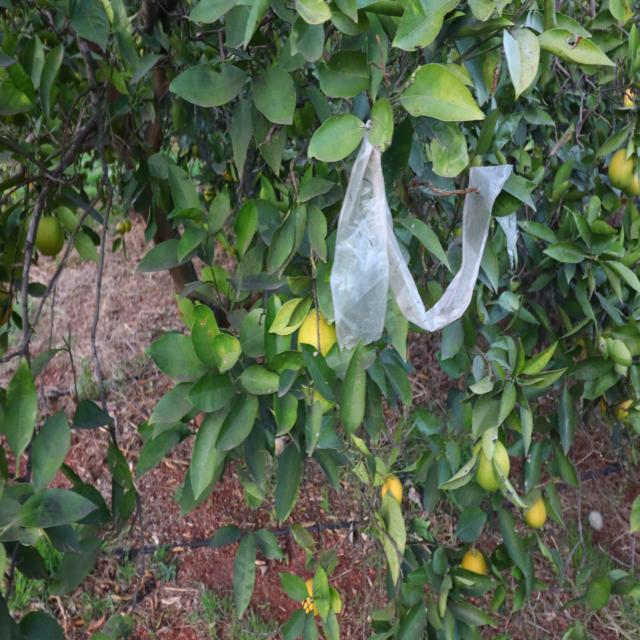Jeruk Belum Matang: (298, 306, 338, 362), (478, 442, 510, 492), (609, 150, 635, 192), (36, 218, 64, 255), (522, 498, 547, 526), (462, 546, 484, 576)
